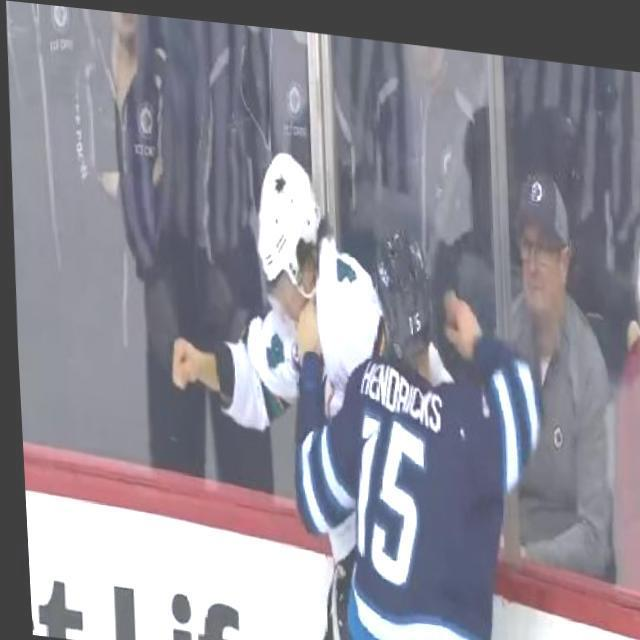fight: (175, 143, 552, 640)
